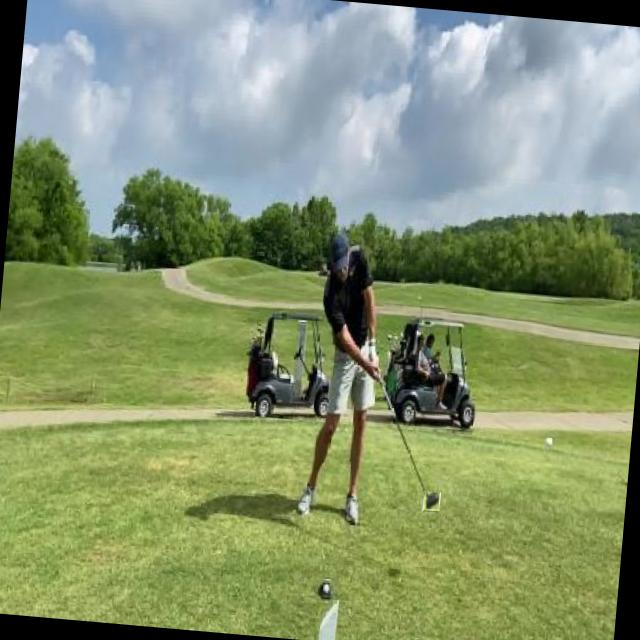club head: (422, 492, 440, 512)
